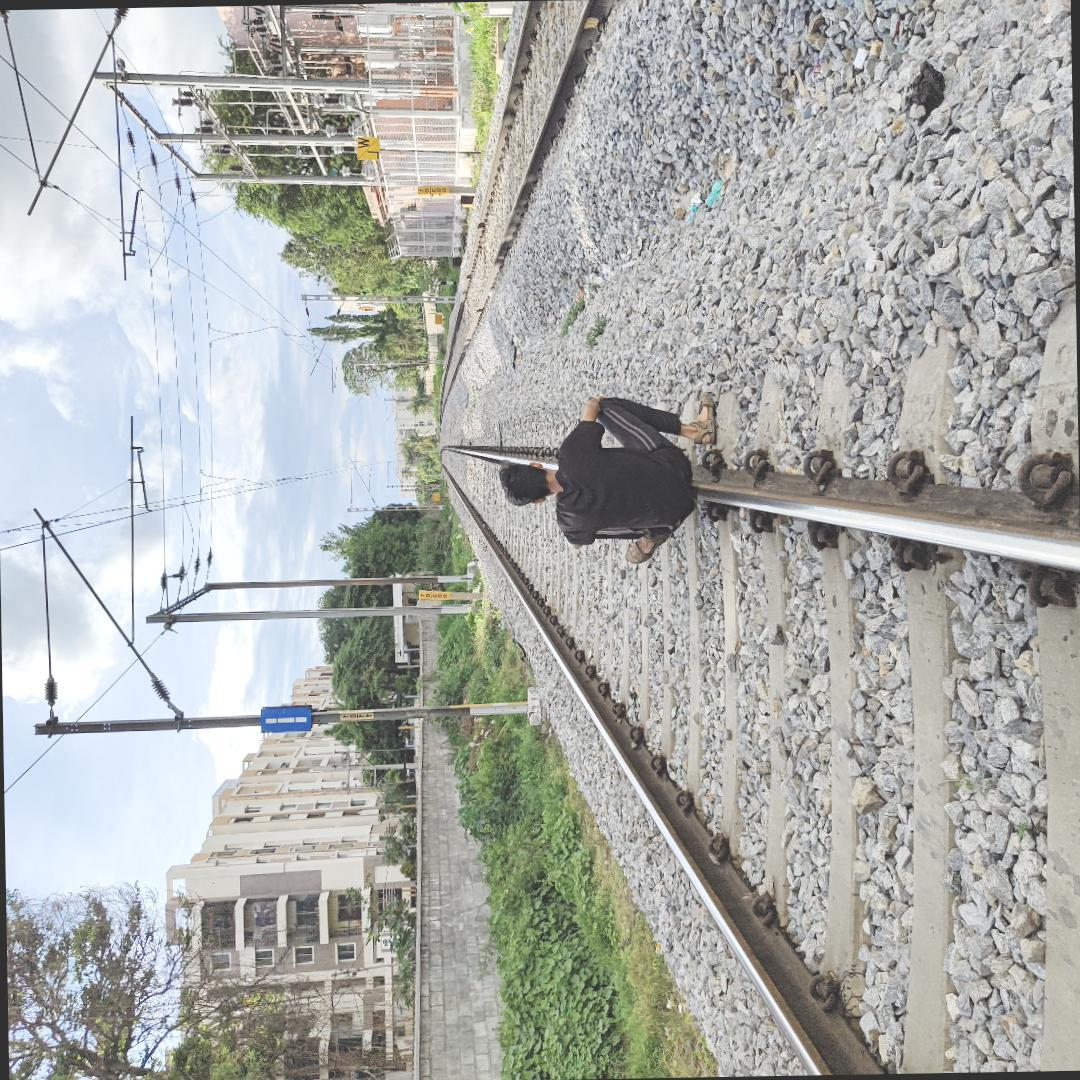sitting: (493, 378, 728, 574)
